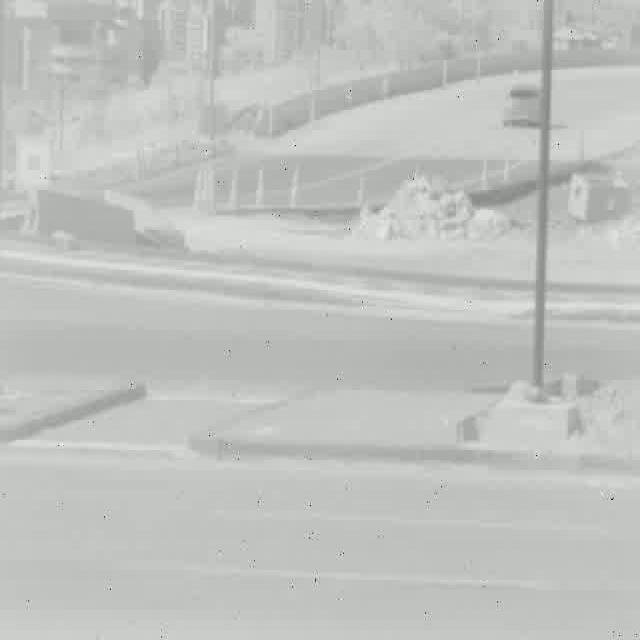Car: (503, 84, 541, 130)
